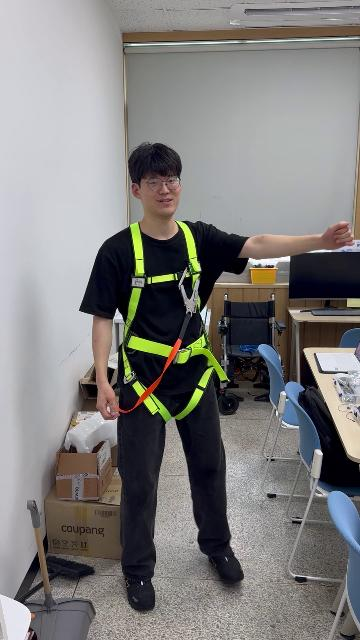helmet_not_worn: (124, 142, 189, 202)
shoe_worn: (206, 548, 244, 584), (125, 576, 156, 611)
vest_worn: (116, 225, 227, 420)
